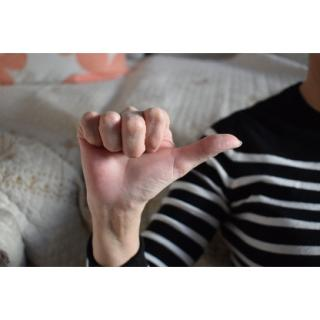DAD: (73, 105, 245, 217)
